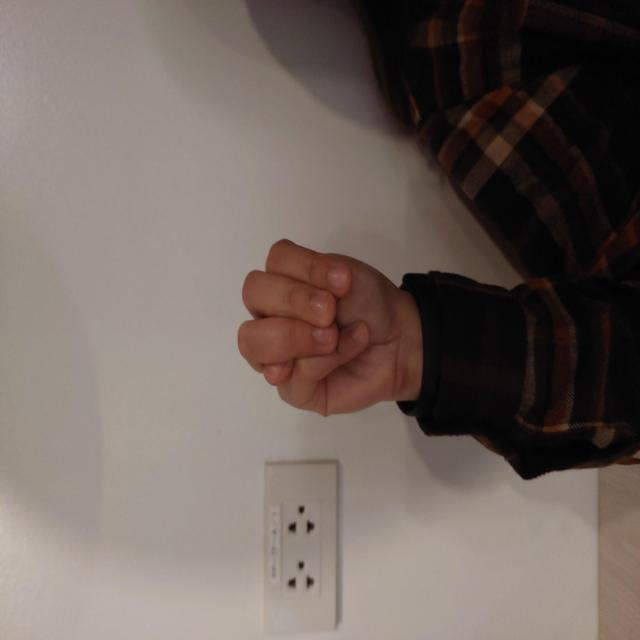M: (220, 234, 405, 406)
